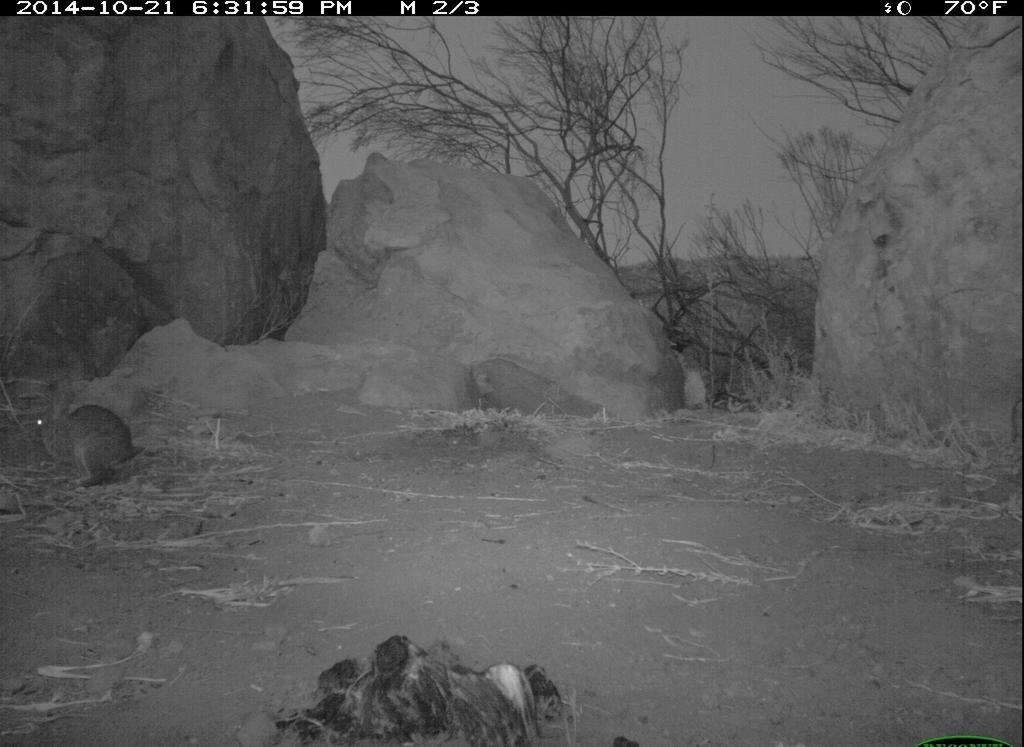rabbit: (24, 372, 151, 495)
